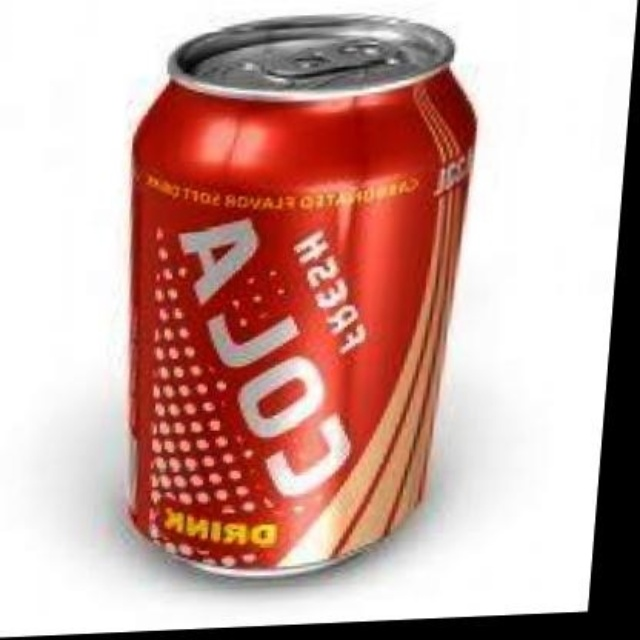trash: (129, 15, 474, 575)
